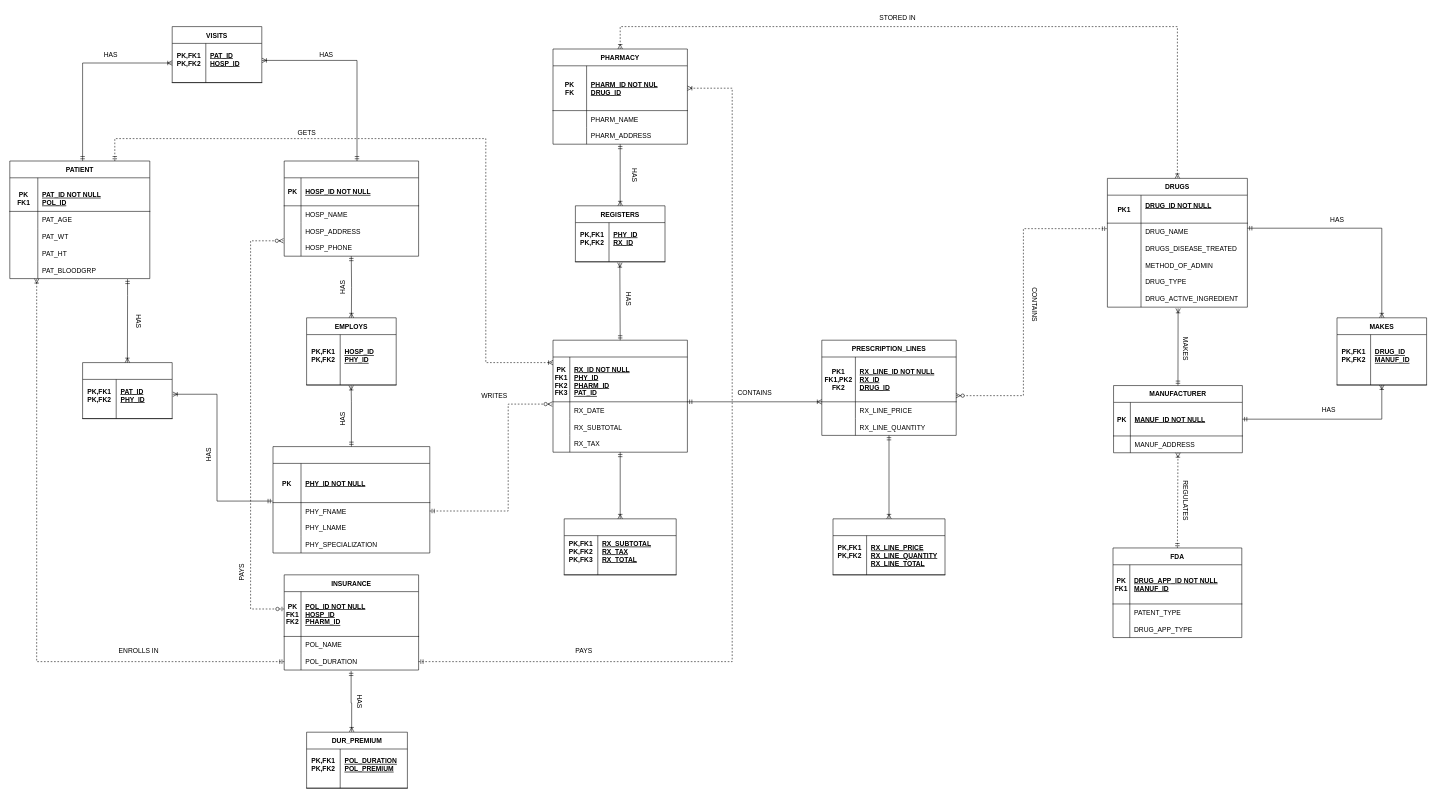
This 1436x798 diagram has some shape labels left out. Each missing label, with the box of its shape:
HOSPITAL: (284, 160, 419, 256)
PHYSICIAN: (272, 446, 430, 553)
PRESCRIPTION: (552, 340, 687, 452)
PRICE_QUANT_TOTAL: (832, 518, 945, 575)
SUBTOT_TAX_TOT: (564, 518, 676, 575)
TREATS: (82, 362, 172, 419)
